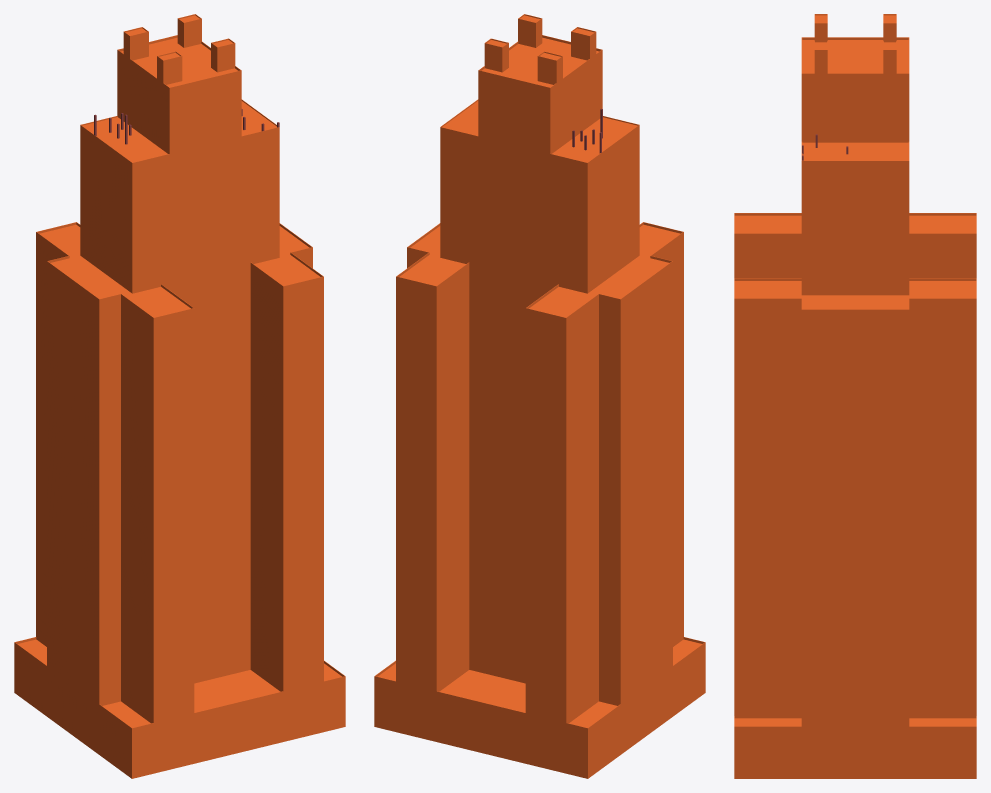
File: Building_05_3.FBX
The picture shows the model from 3 angles, left to right: view 1: azimuth 30°, elevation 25°; view 2: azimuth 150°, elevation 25°; view 3: azimuth 270°, elevation 25°; orthographic projection. The views are drawn at different scales.
Parts seen in each view (by area): view 1: Building_05_3; view 2: Building_05_3; view 3: Building_05_3.
Boxes of the visible parts, box(x1,y1,x2,y2) form: Building_05_3: box(14, 14, 345, 778); Building_05_3: box(374, 14, 705, 778); Building_05_3: box(734, 14, 976, 778).
Bounding box in the file's own units: 104638 × 314981 × 99860.
